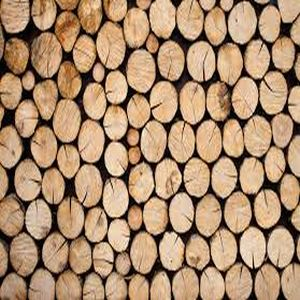log: (28, 31, 64, 79), (95, 21, 127, 73), (192, 194, 226, 238), (184, 40, 216, 86), (222, 190, 257, 232), (126, 48, 157, 94), (7, 234, 40, 277), (138, 119, 168, 166), (148, 81, 180, 125), (244, 115, 273, 163), (239, 223, 267, 272), (54, 196, 85, 240), (259, 70, 289, 115), (231, 75, 261, 120), (74, 162, 104, 207), (210, 228, 240, 273), (195, 119, 224, 165), (130, 230, 159, 276), (168, 190, 198, 234), (126, 161, 155, 206), (102, 176, 132, 219), (216, 42, 244, 88), (31, 78, 60, 122), (211, 156, 240, 200), (179, 79, 207, 124), (56, 60, 86, 102), (30, 125, 58, 170), (53, 98, 81, 143), (14, 158, 43, 201), (40, 231, 69, 274), (266, 226, 295, 269), (168, 120, 196, 164), (156, 40, 185, 82), (182, 157, 211, 199), (154, 157, 183, 199), (25, 199, 53, 242), (242, 38, 271, 79), (176, 1, 205, 42), (203, 7, 232, 48), (228, 2, 257, 43), (252, 188, 281, 229), (122, 7, 150, 49), (203, 80, 231, 122), (143, 195, 172, 235), (78, 121, 104, 165), (101, 105, 131, 143), (40, 165, 68, 205), (158, 231, 186, 271), (82, 206, 109, 247), (221, 117, 246, 161), (72, 34, 98, 76), (239, 154, 265, 196), (149, 1, 177, 39), (125, 92, 153, 130), (54, 11, 80, 51), (270, 36, 296, 76), (2, 37, 30, 74), (185, 233, 212, 271), (13, 99, 39, 138), (1, 195, 25, 237), (82, 82, 107, 122), (226, 263, 253, 300), (254, 264, 281, 300), (104, 69, 130, 106), (258, 5, 282, 45), (69, 237, 94, 275), (1, 126, 22, 171), (3, 1, 32, 33), (171, 268, 200, 300), (103, 141, 127, 179), (90, 241, 116, 276), (77, 1, 104, 34), (57, 144, 81, 181), (264, 146, 286, 186), (107, 218, 132, 252), (54, 271, 83, 300), (1, 73, 22, 112), (200, 266, 224, 300), (30, 1, 57, 31), (28, 270, 54, 300), (279, 174, 300, 210), (1, 272, 28, 300), (280, 262, 300, 299), (273, 113, 293, 148), (103, 271, 127, 300), (149, 270, 172, 300), (125, 204, 146, 233), (81, 275, 104, 300), (128, 273, 149, 300), (114, 249, 131, 277), (91, 62, 106, 84), (144, 33, 159, 53), (127, 146, 142, 166), (127, 127, 141, 148), (21, 69, 33, 92)
